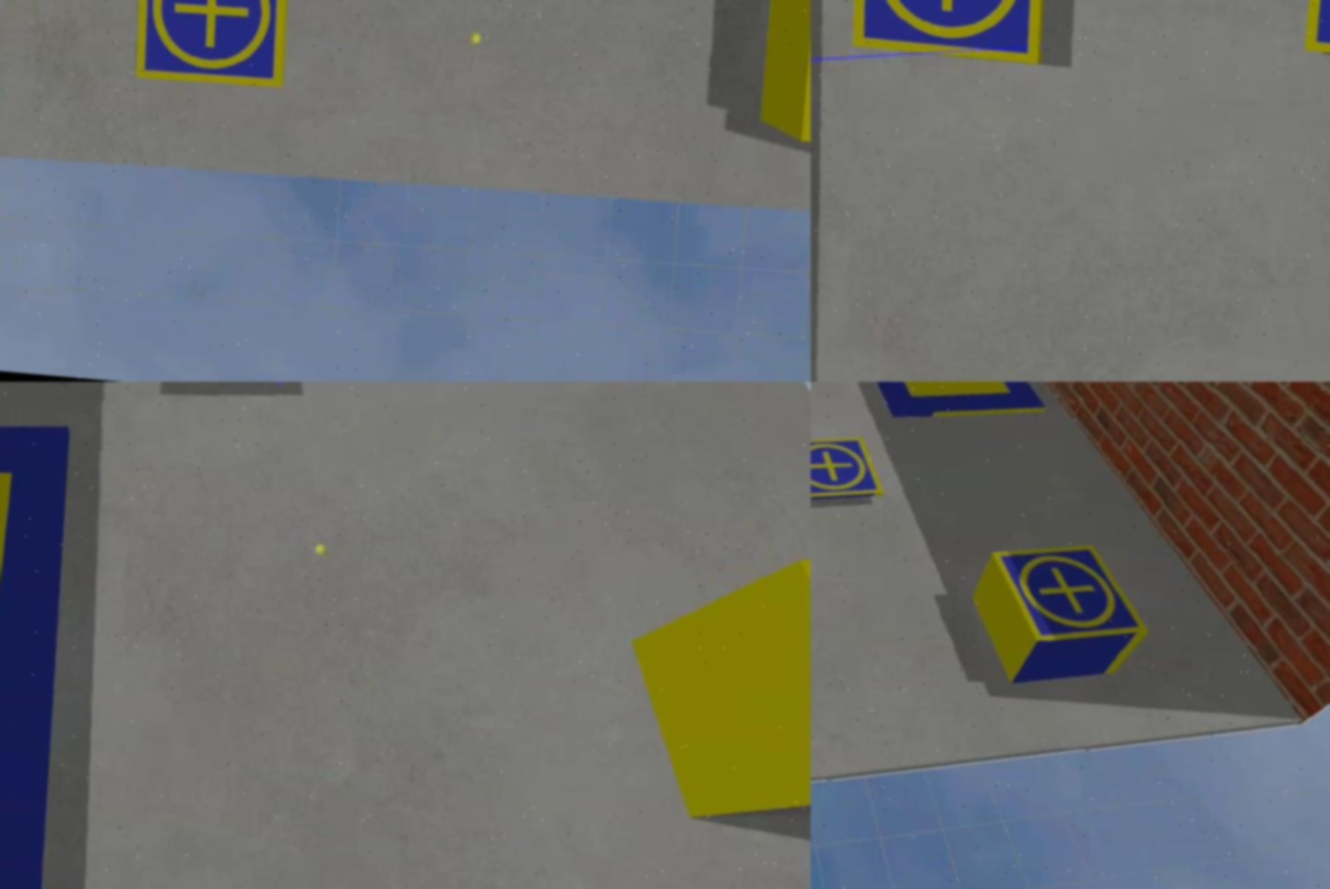large_base: (834, 382, 1052, 432)
small_base: (980, 536, 1158, 656), (126, 1, 297, 93), (838, 1, 1061, 68), (812, 430, 888, 513)
